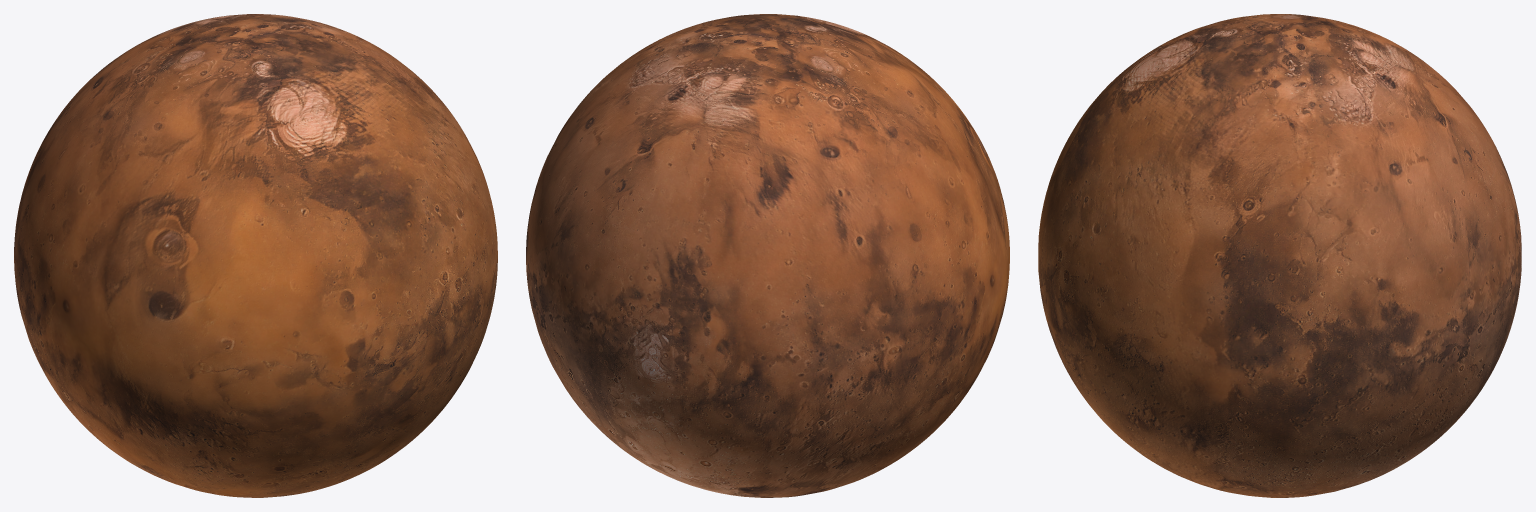
File: PlanetMars.glb
3 views of the same model, side by side, from view 1: azimuth 30°, elevation 25°; view 2: azimuth 150°, elevation 25°; view 3: azimuth 270°, elevation 25° (orthographic).
Parts seen in each view (by area): view 1: Mars; view 2: Mars; view 3: Mars.
Boxes of the visible parts, x1,y1,x2,y2 form: Mars: [14, 14, 497, 497]; Mars: [526, 14, 1009, 497]; Mars: [1038, 14, 1521, 497].
Bounding box in the file's own units: 2 × 2 × 2.
1 material, 1 textured.
